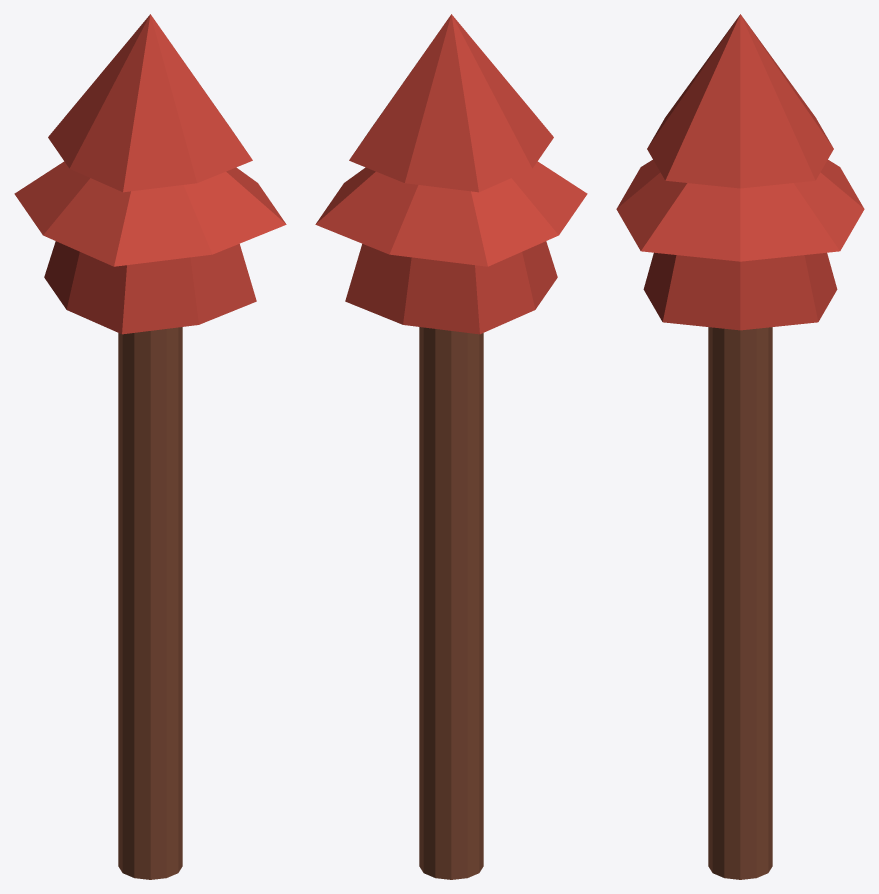
Rendered from Tree_20_summer_red_mat.fbx.
The picture shows the model from 3 angles, left to right: view 1: azimuth 30°, elevation 25°; view 2: azimuth 150°, elevation 25°; view 3: azimuth 270°, elevation 25°; orthographic projection.
Parts seen in each view (by area): view 1: Tree_20_summer_red_mat; view 2: Tree_20_summer_red_mat; view 3: Tree_20_summer_red_mat.
Boxes of the visible parts, x1,y1,x2,y2 form: Tree_20_summer_red_mat: (14, 14, 286, 879); Tree_20_summer_red_mat: (315, 14, 587, 879); Tree_20_summer_red_mat: (616, 14, 864, 879).
Size of the model in its own units: 85.54 by 324 by 85.54.
